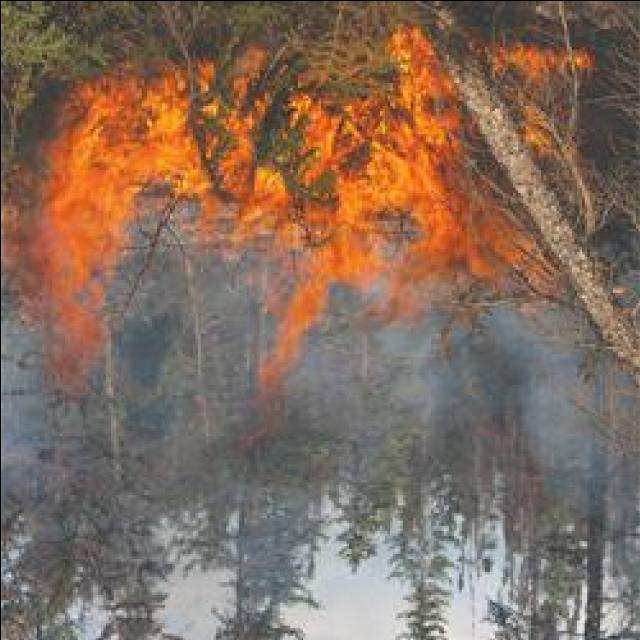fire: (60, 125, 124, 223), (372, 154, 428, 214)
smoke: (152, 550, 242, 638), (520, 388, 575, 459), (0, 354, 21, 470)
